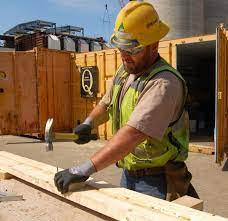Helmet: (107, 2, 172, 52)
Jacket: (110, 65, 191, 170)
gloves: (50, 160, 99, 195)
